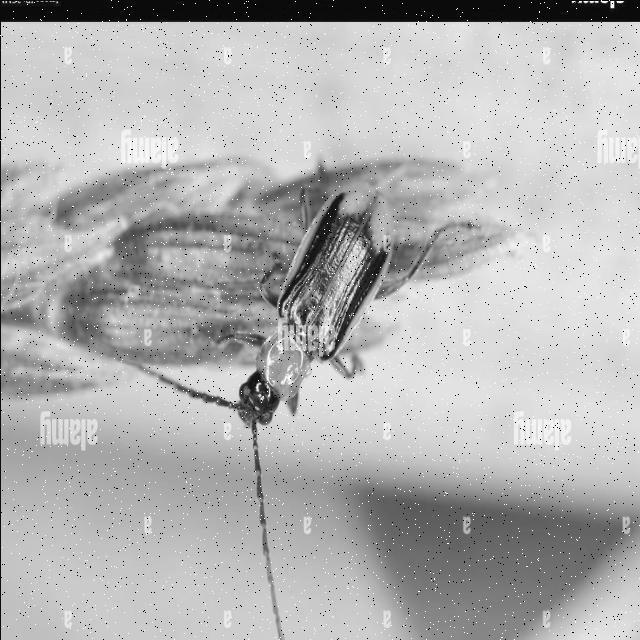trips: (176, 71, 416, 638)
